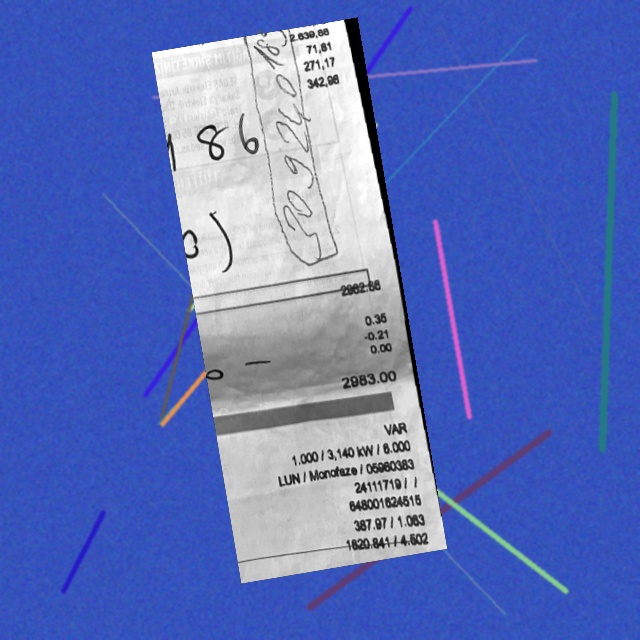electricity-bill: (151, 16, 446, 584)
